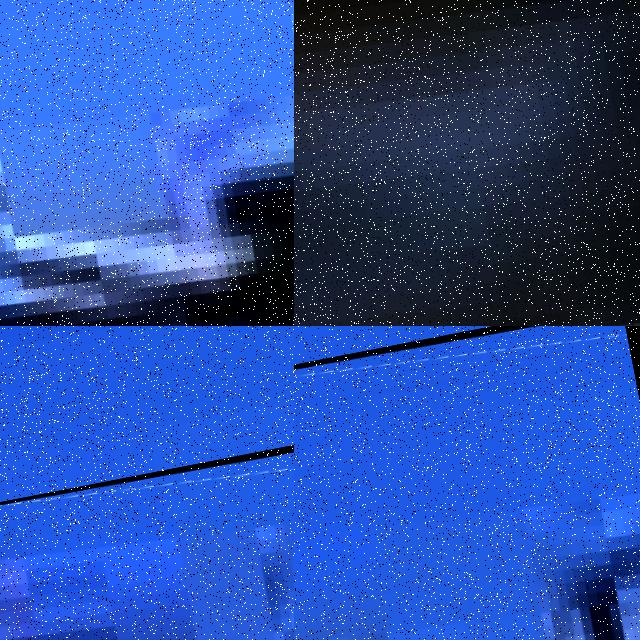drone: (294, 0, 640, 326), (294, 326, 640, 640), (0, 0, 294, 326), (0, 414, 294, 640)
